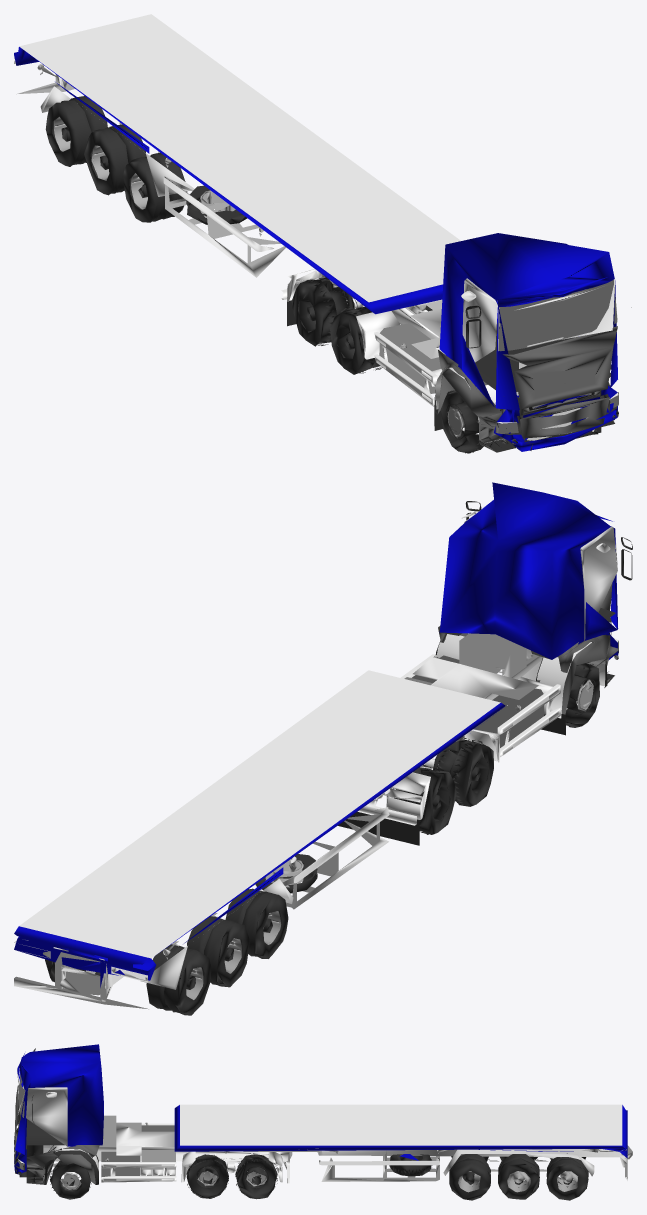
Rendered from itv.glb.
3 views of the same model, one above another, from view 1: azimuth 30°, elevation 25°; view 2: azimuth 150°, elevation 25°; view 3: azimuth 270°, elevation 25° (orthographic). The views are drawn at different scales.
Visible parts, largest first — view 1: _C-Компонент#37 (Loose Mesh).001; view 2: _C-Компонент#37 (Loose Mesh).001; view 3: _C-Компонент#37 (Loose Mesh).001.
Boxes of the visible parts, x1,y1,x2,y2 form: _C-Компонент#37 (Loose Mesh).001: (14,14,631,453); _C-Компонент#37 (Loose Mesh).001: (14,482,632,1015); _C-Компонент#37 (Loose Mesh).001: (14,1044,632,1200).
Size of the model in its own units: 3.23 by 3.55 by 16.39.
